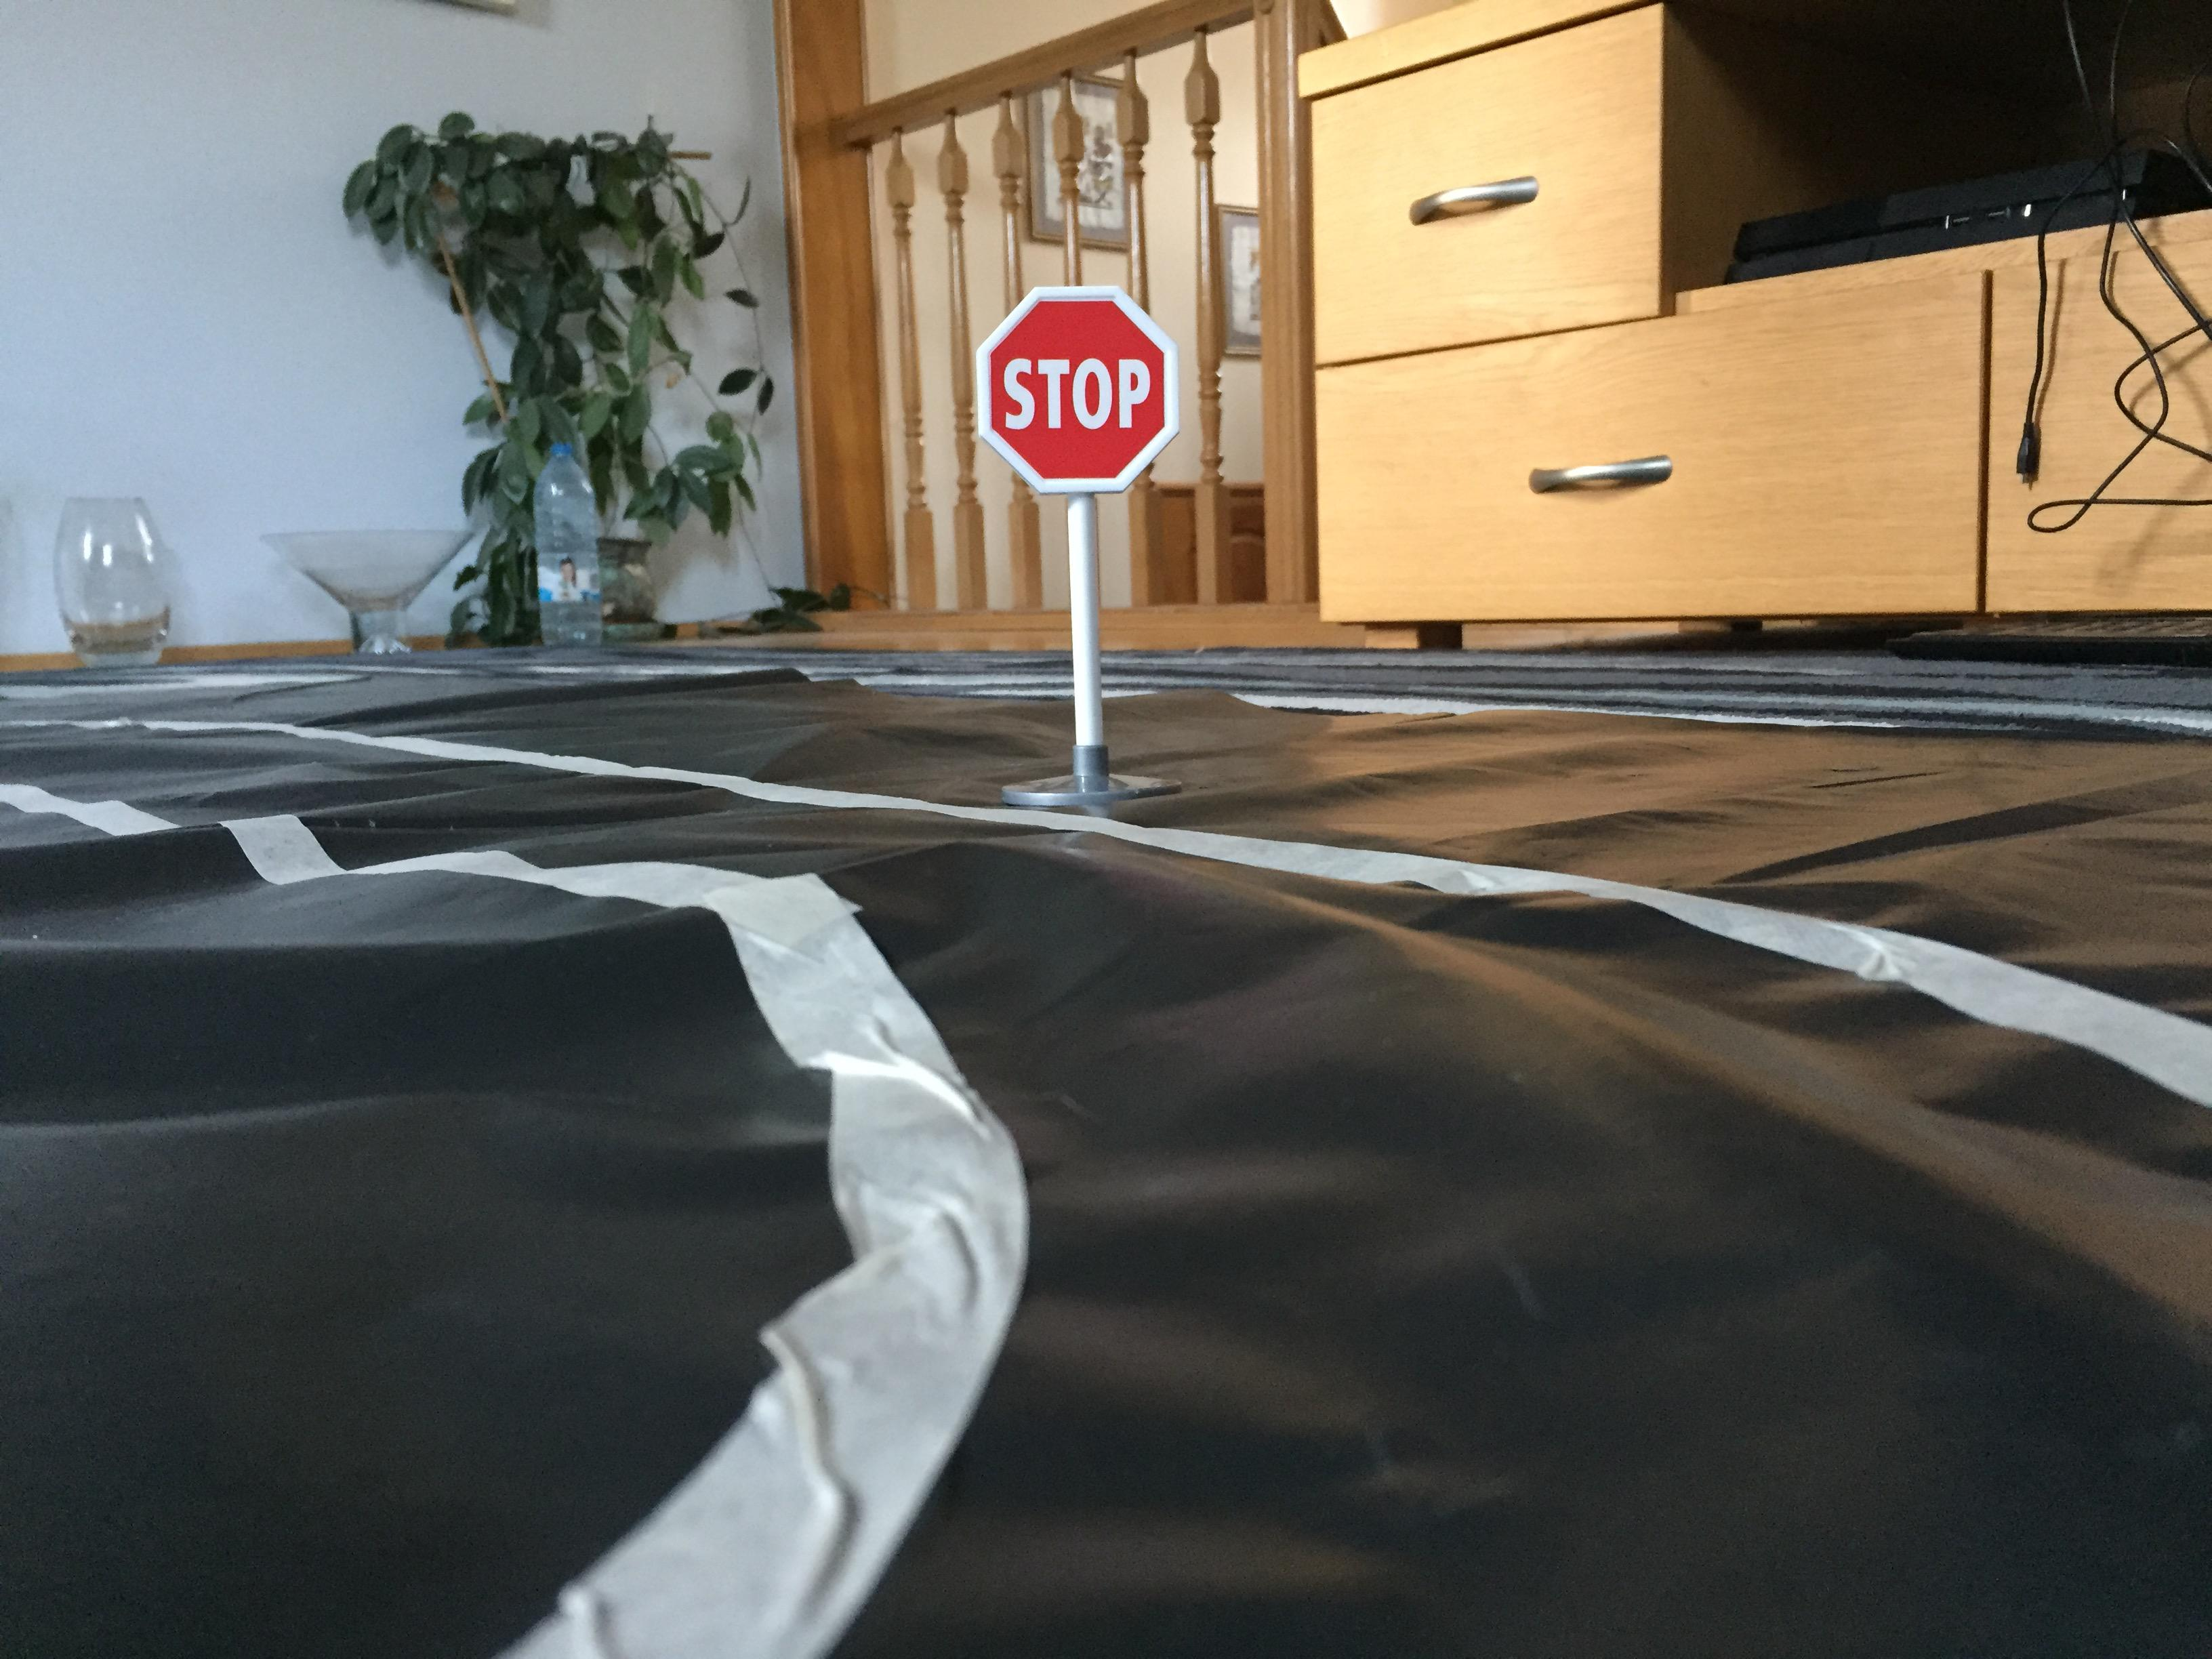stop: (968, 279, 1188, 509)
